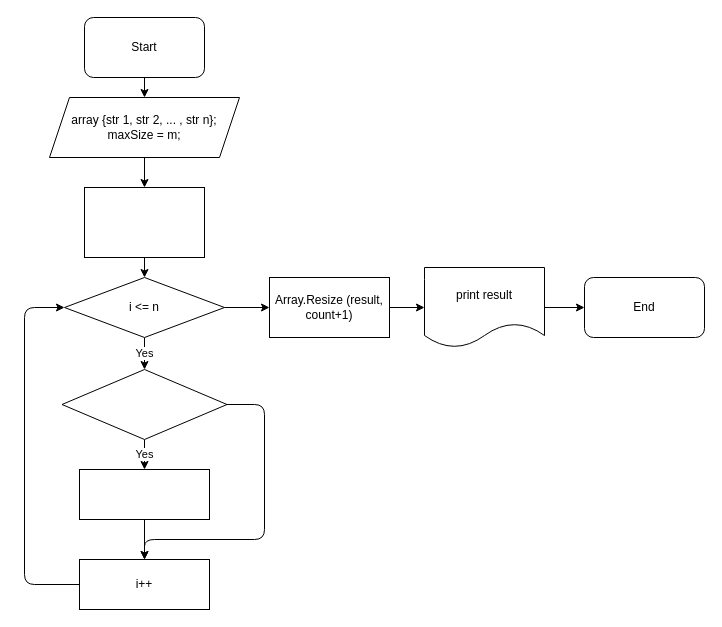
Image size: 722x627. Some labels were removed from this diagram. The centre of each missing label's shape, as x and y in pixels:
"array [i].Length <= maxSize" goes at (x=144, y=404).
"count = -1 i = 0 result [array.Length]" goes at (x=144, y=222).
"count++ result [count] = array [i]" goes at (x=144, y=494).
